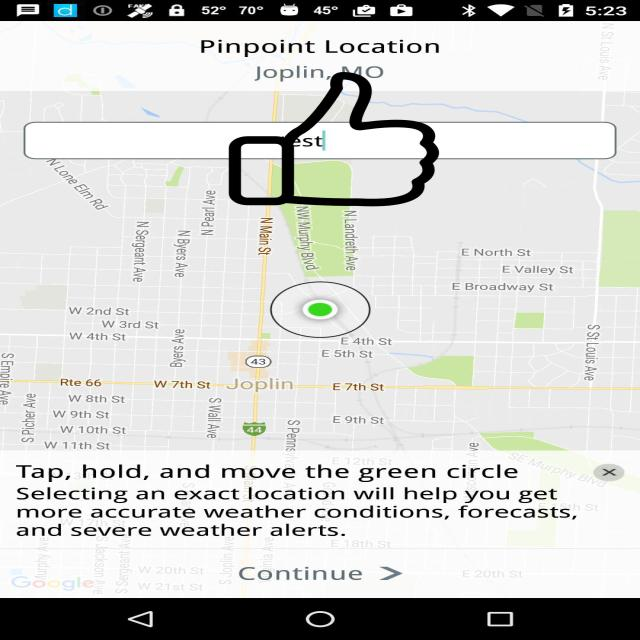privacy zuckering: (226, 72, 442, 206)
